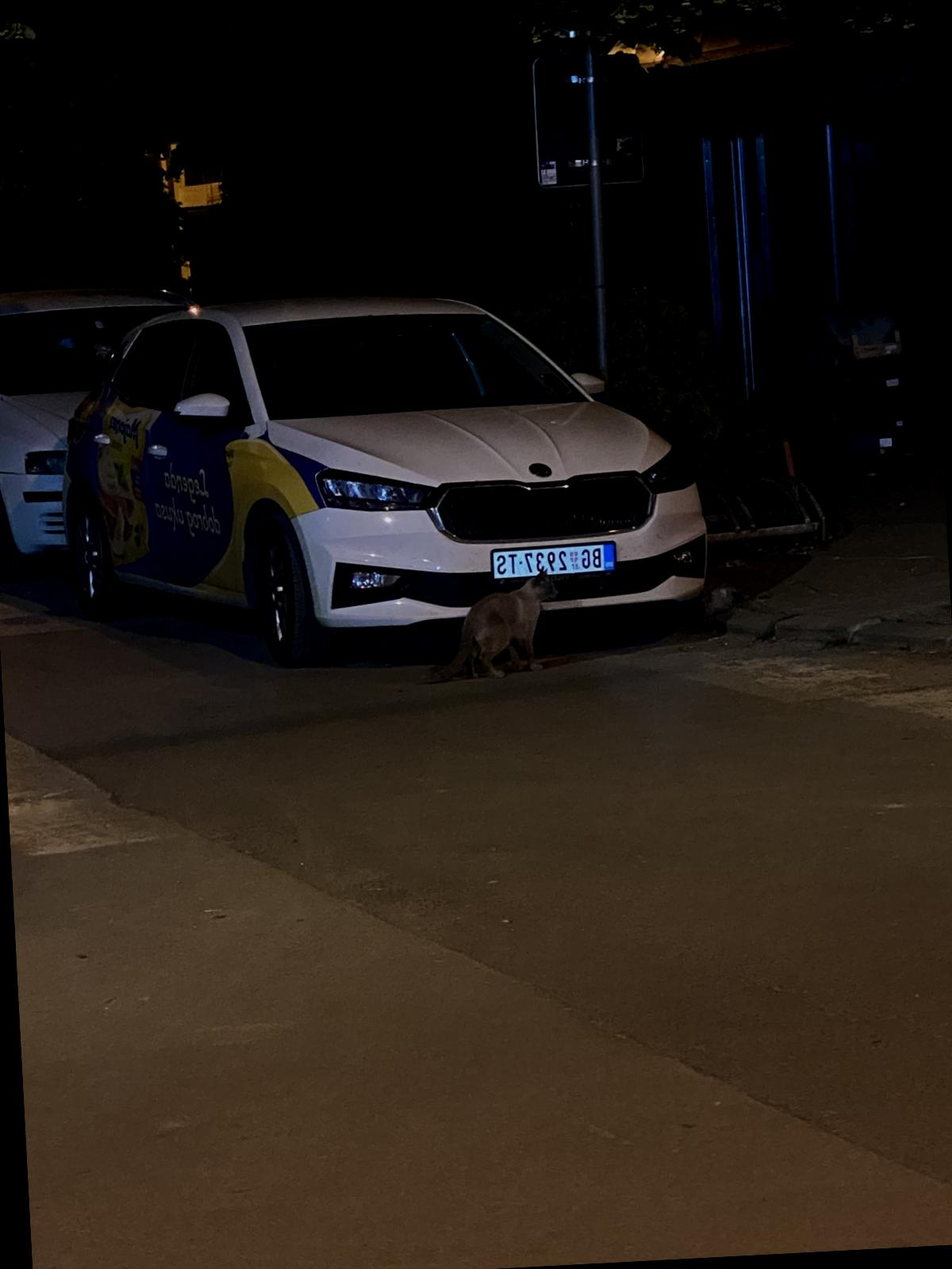macka: (413, 565, 564, 683)
